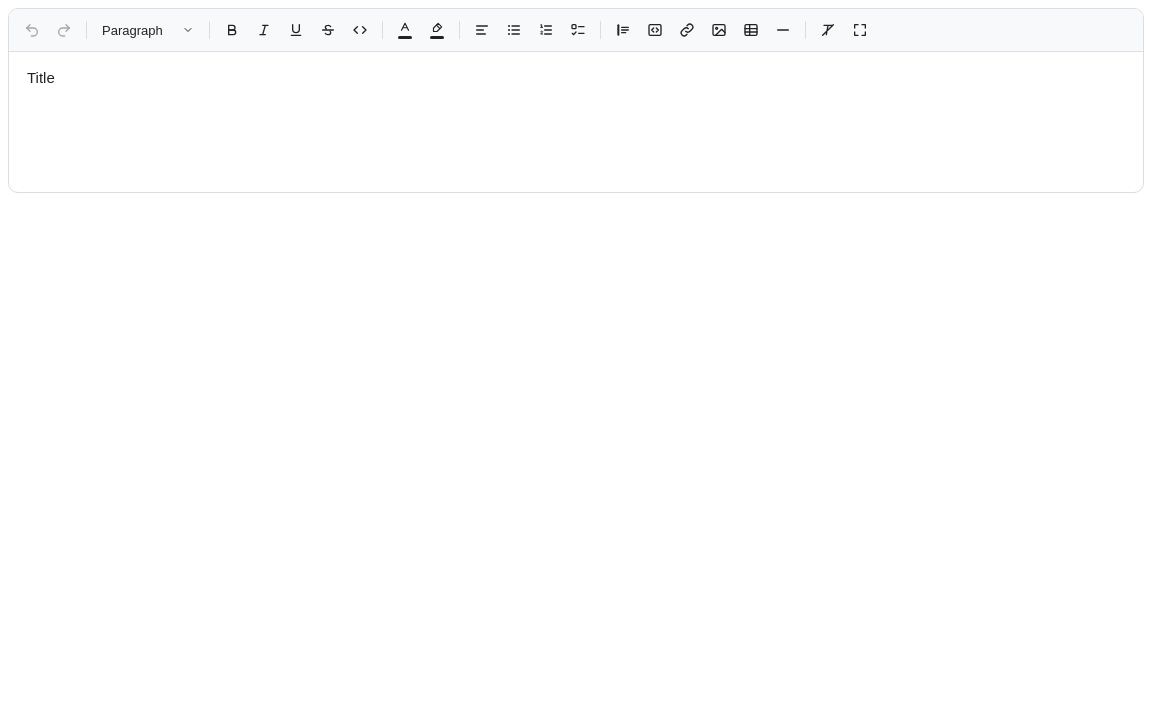
it: RichTextEditor › changes the block type from the text style menu
The image size is (1152, 720).
Expected: the field with class "richkit-content" is shown, [27,69,55,86]
Click the button with aria-label "Text style".
click(148, 30)  # box [94,15,202,45]
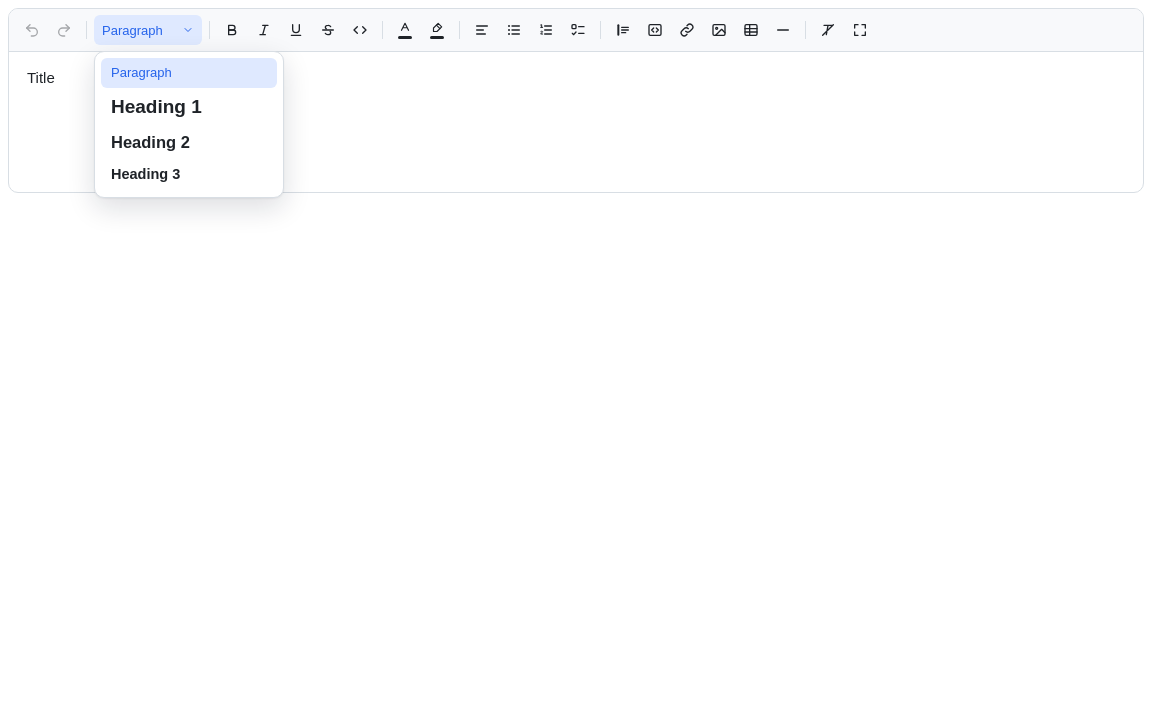
Click the button "Heading 2".
click(189, 142)  # box [101,125,277,160]
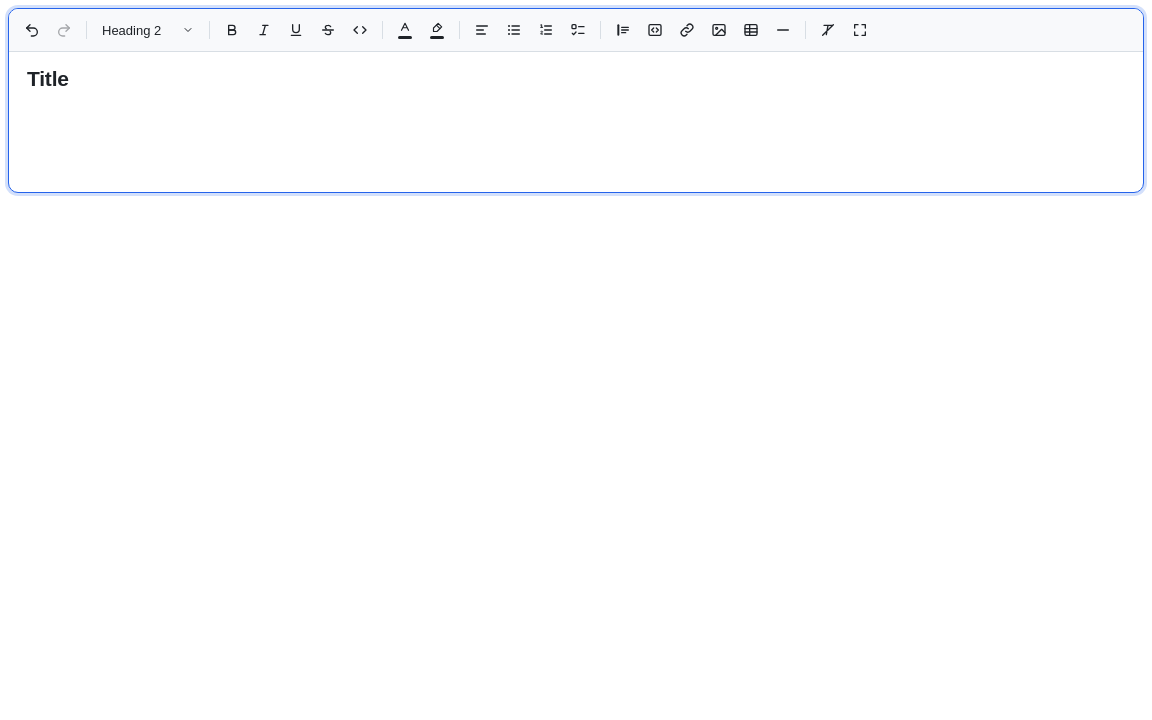
Expected: the dialog is gone
